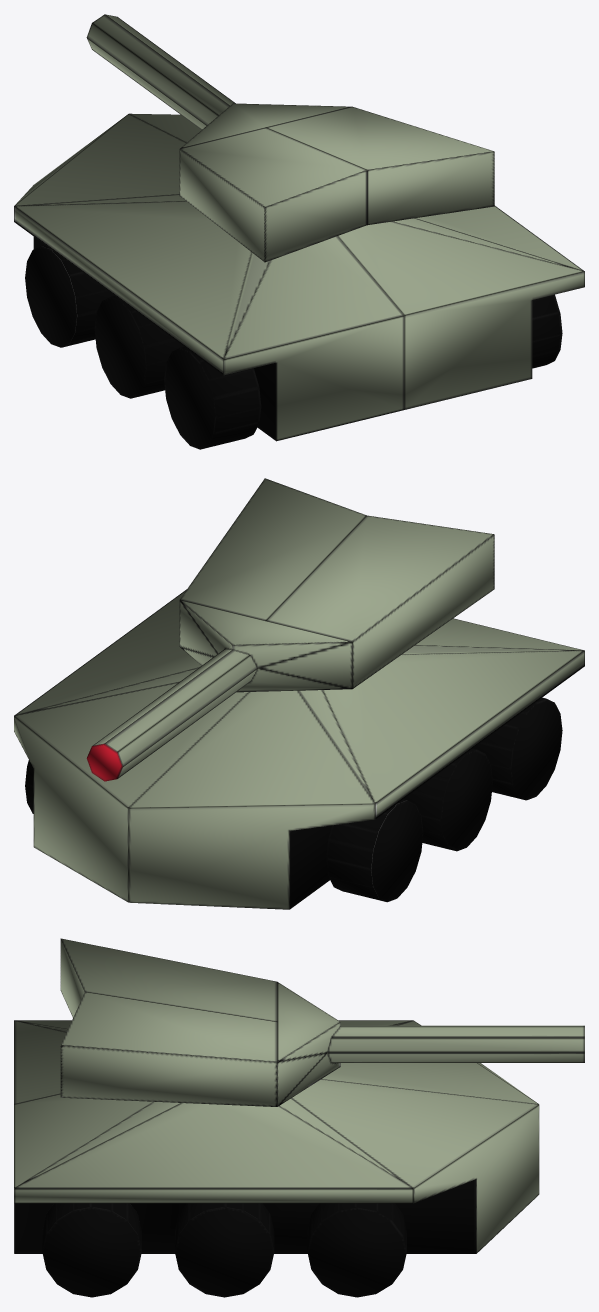
The model's file is super_simple_tank.glb.
3 renders of one model, top to bottom at view 1: azimuth 30°, elevation 25°; view 2: azimuth 150°, elevation 25°; view 3: azimuth 270°, elevation 25°, orthographic. The views are drawn at different scales.
Visible parts, largest first — view 1: Cube; view 2: Cube; view 3: Cube.
Boxes of the visible parts, x1,y1,x2,y2 form: Cube: (14, 14, 584, 449); Cube: (14, 478, 584, 909); Cube: (14, 938, 584, 1297).
Size of the model in its own units: 4.8 by 3 by 6.89.
Materials: 1 (1 with a texture image).
